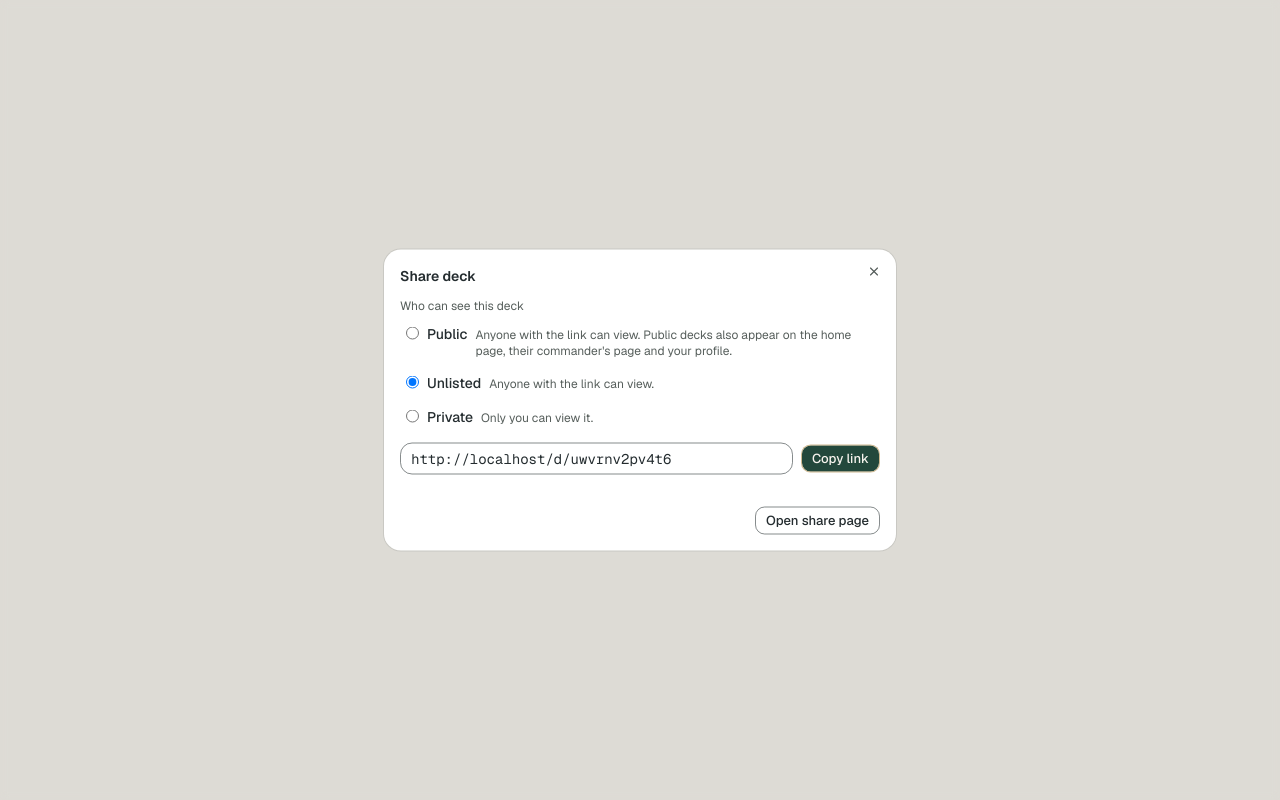
Test: ShareDialog (Y1) › a refused clipboard says so
What coordinates should you click on to do the following:
click the button "Copy link"
I would click on:
 (840, 458)
Its box is [801, 444, 880, 472].
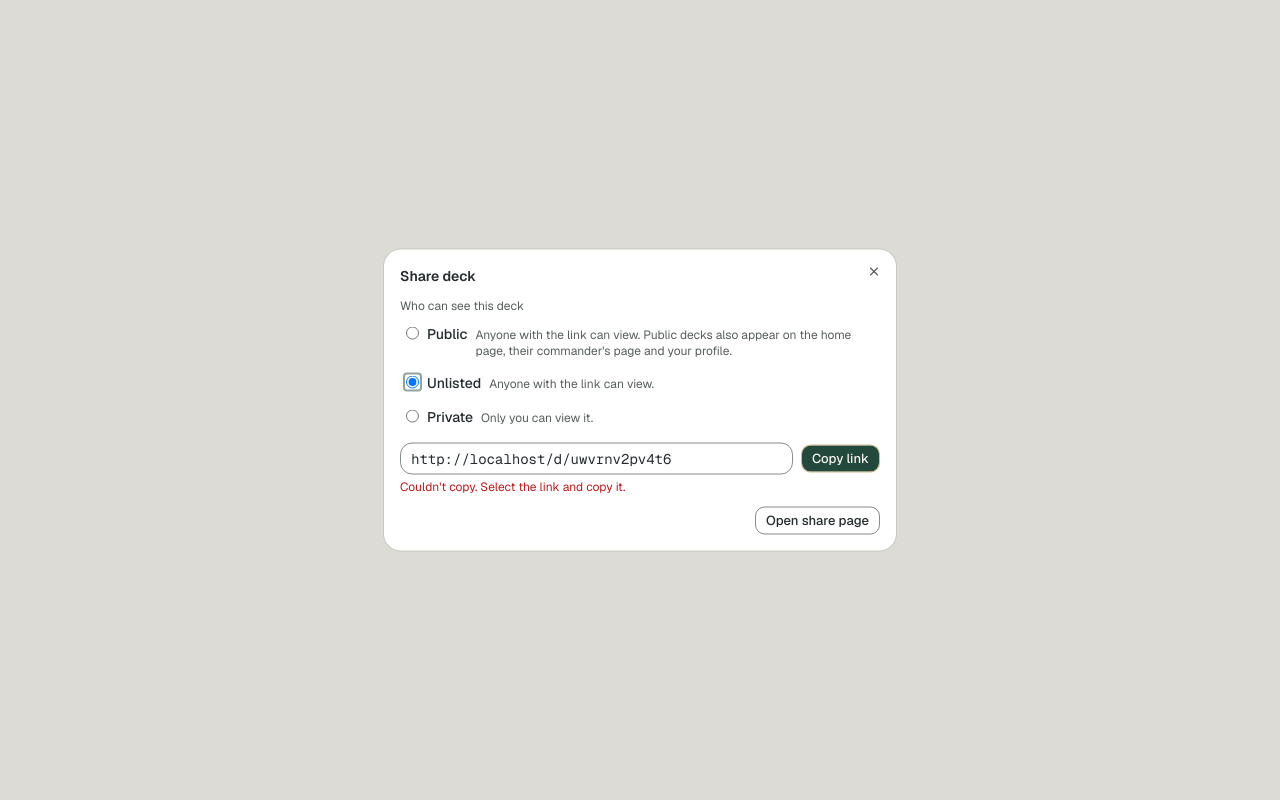
Expected: the message reads "Couldn't copy. Select the link and copy it.", [400, 478, 626, 494]
